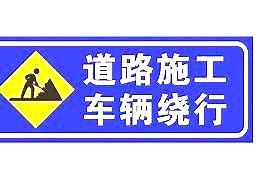sign: (2, 38, 247, 139)
